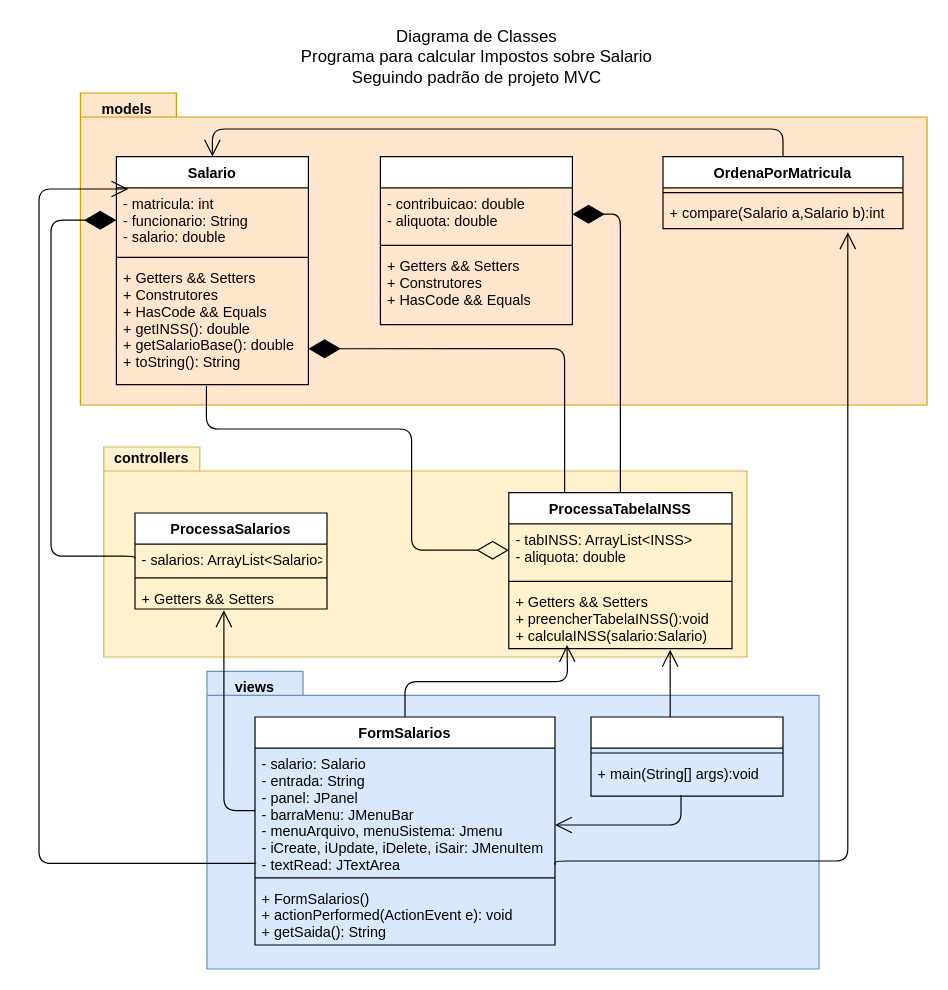
The diagram is 948 pixels wide and 990 high, and some of its shapes have lost their labels. The shapes that lost their labels are listed below. From the top down, each one's box as (x1, y1, x2, y2) in pixels, then its label:
(379, 155, 572, 325): INSS
(590, 716, 783, 796): MainClass
